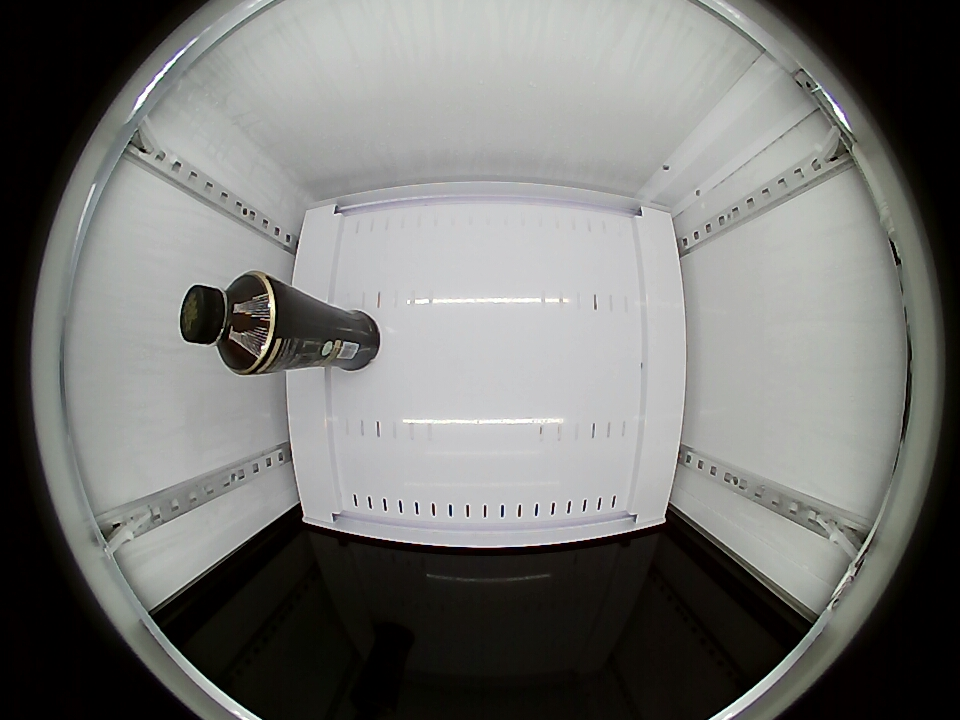rancha-1: (180, 271, 277, 373)
